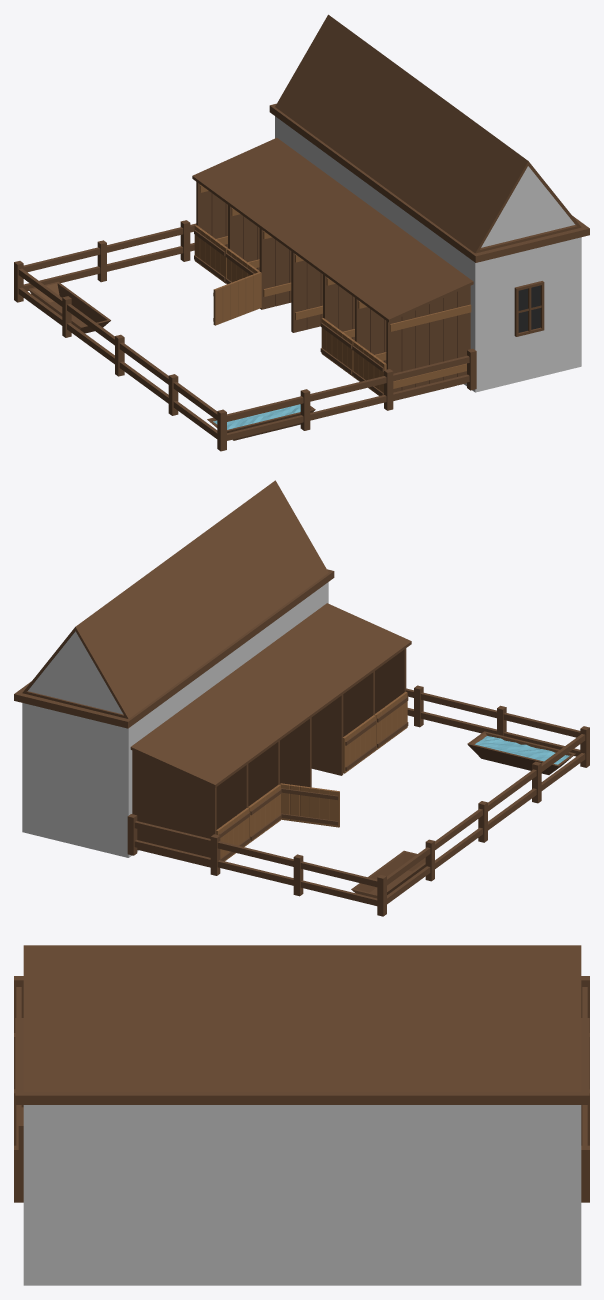
The model's file is Stable_mat.fbx.
3 renders of one model, top to bottom at view 1: azimuth 30°, elevation 25°; view 2: azimuth 150°, elevation 25°; view 3: azimuth 270°, elevation 25°, orthographic. The views are drawn at different scales.
Parts seen in each view (by area): view 1: Stable_mat; view 2: Stable_mat; view 3: Stable_mat.
Part boxes in pixels (x1,y1,x2,y2): Stable_mat: [14, 14, 589, 451]; Stable_mat: [14, 480, 589, 916]; Stable_mat: [14, 945, 589, 1285].
Bounding box in the file's own units: 690 × 390 × 668.
